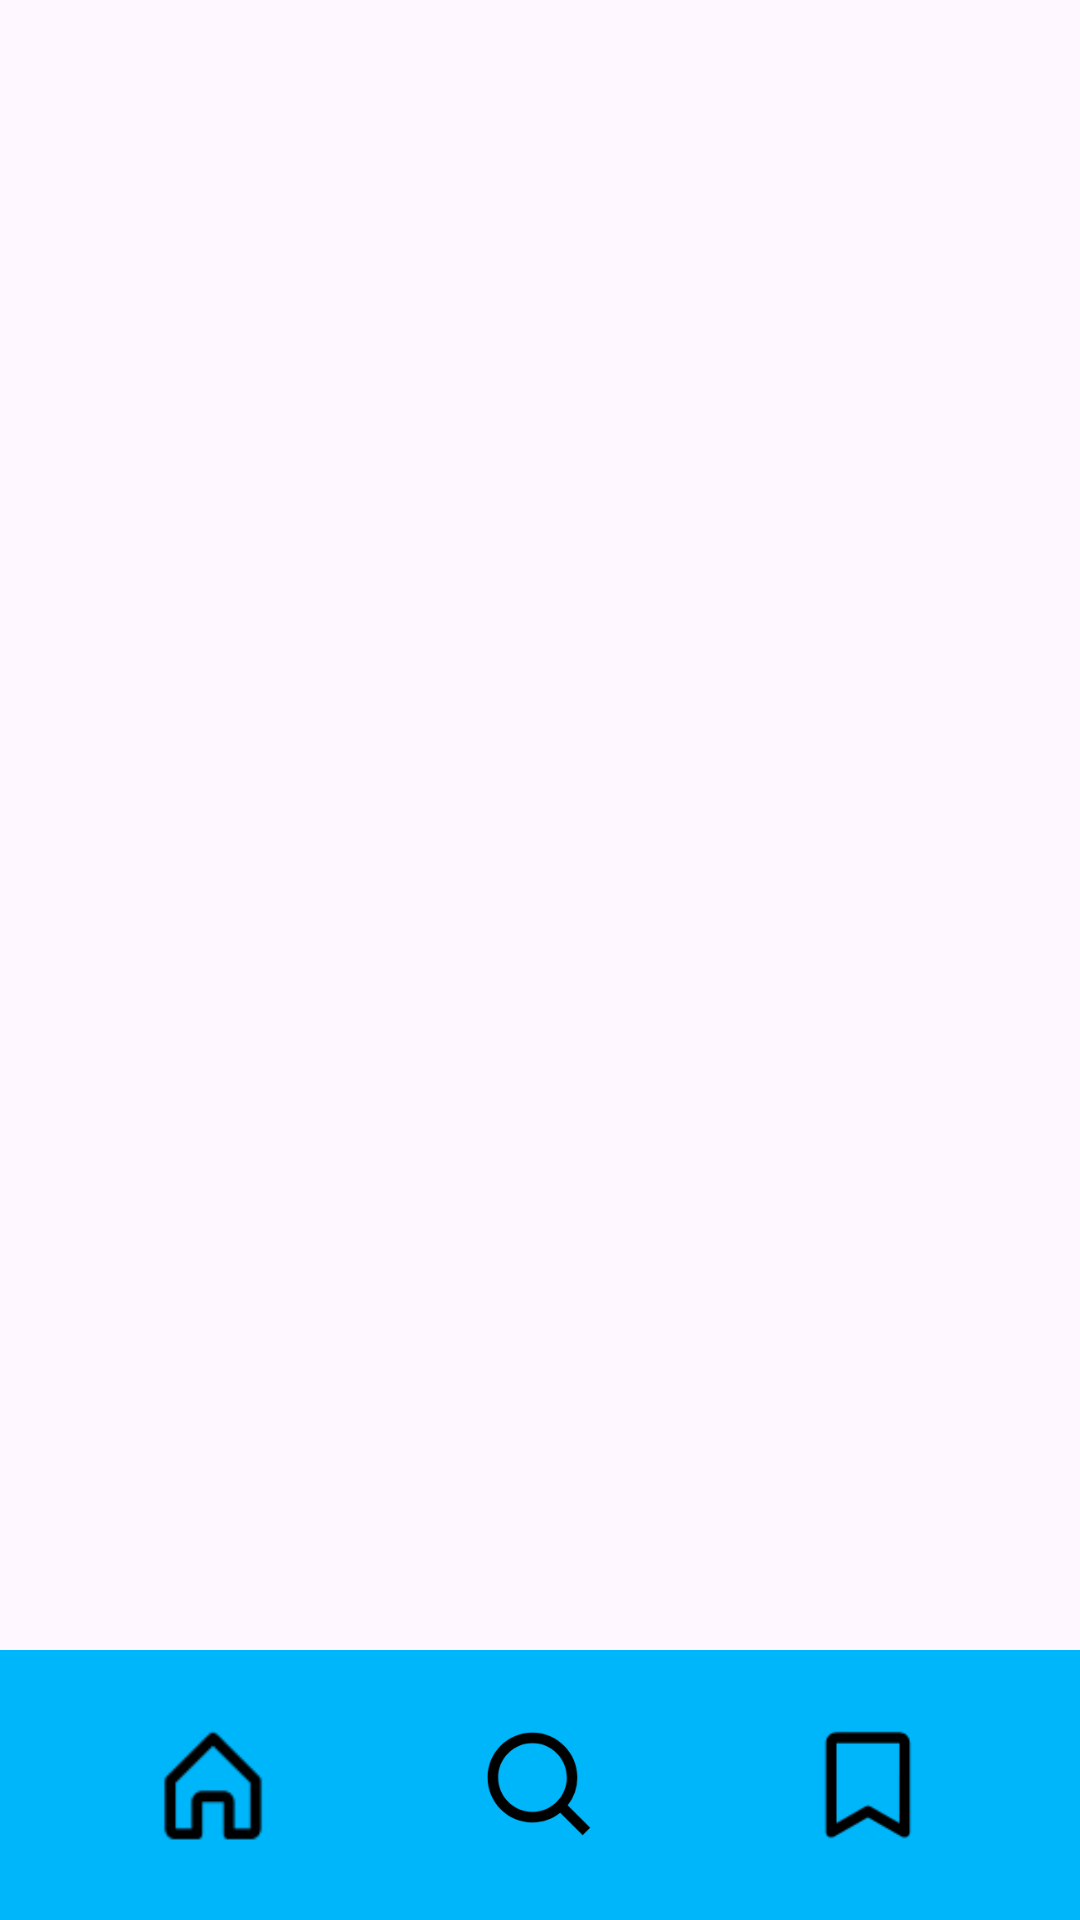

Screen size 1080px×1920px. Icon name, then its box in pixels as bbox(x1, y1, x2, y2):
Home: bbox(164, 1732, 263, 1840)
Search: bbox(487, 1732, 590, 1836)
Watch List: bbox(825, 1731, 911, 1839)
